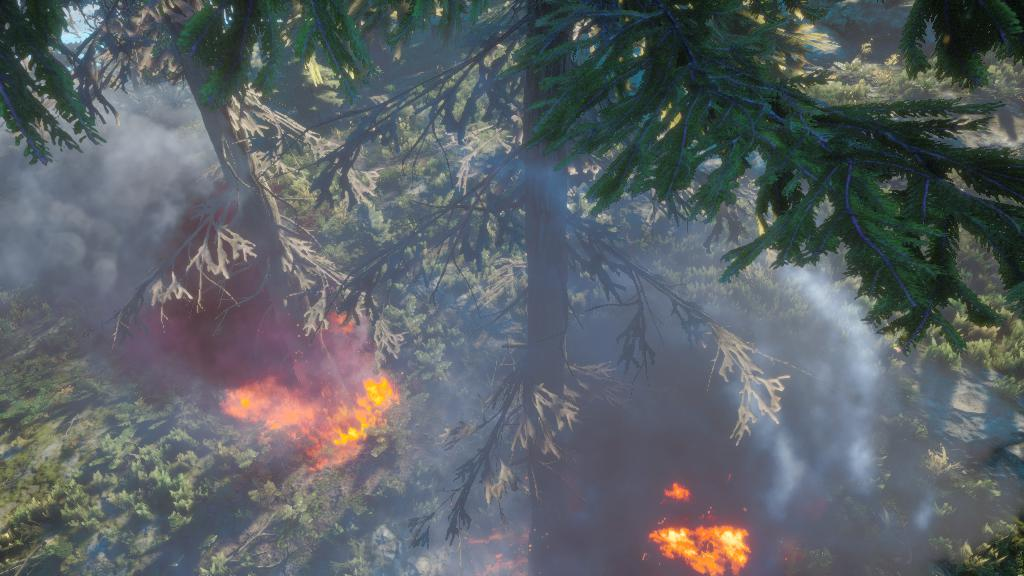Fire: (219, 322, 406, 474), (633, 482, 762, 575)
smoke: (486, 198, 1023, 575), (0, 85, 323, 382)
